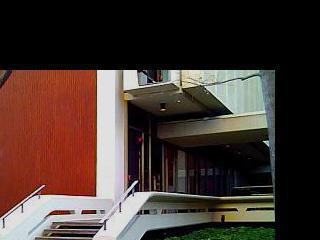Escaleras: (3, 210, 122, 240)
